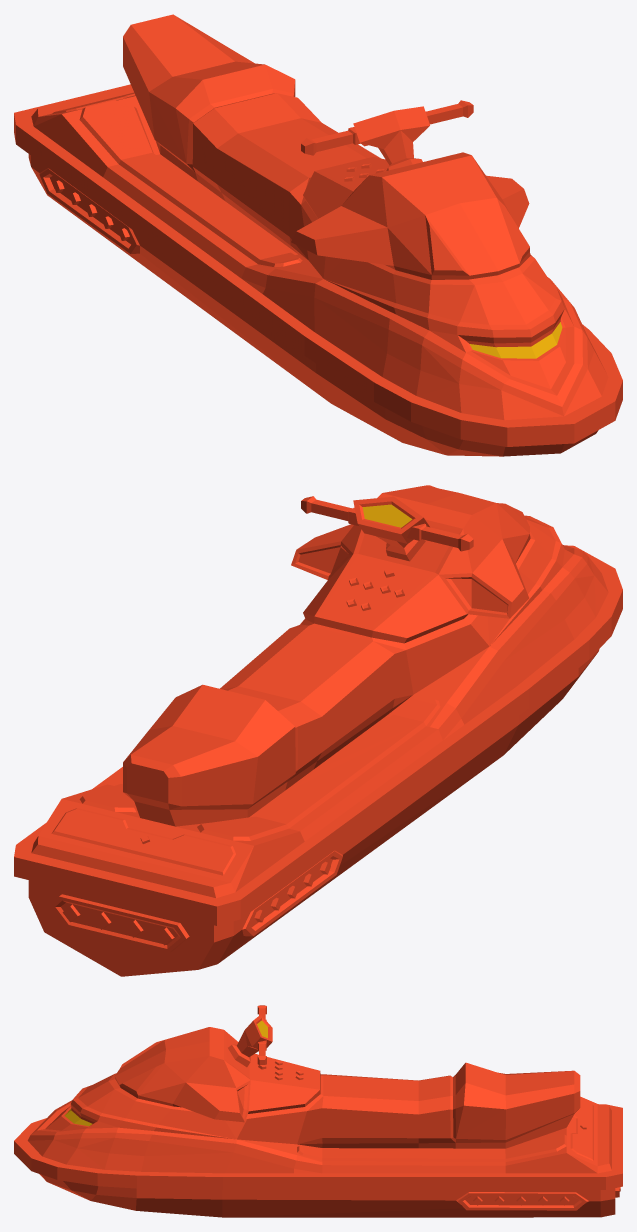
File: SM_JetSki.fbx
3 renders of one model, top to bottom at view 1: azimuth 30°, elevation 25°; view 2: azimuth 150°, elevation 25°; view 3: azimuth 270°, elevation 25°, orthographic. The views are drawn at different scales.
Parts seen in each view (by area): view 1: SM_JetSki_Base, SM_JetSki_SteeringWheel; view 2: SM_JetSki_Base, SM_JetSki_SteeringWheel; view 3: SM_JetSki_Base, SM_JetSki_SteeringWheel.
Part boxes in pixels (box(x1,y1,x2,y2)): SM_JetSki_Base: box(14, 14, 622, 456); SM_JetSki_SteeringWheel: box(301, 100, 473, 165); SM_JetSki_Base: box(14, 485, 622, 976); SM_JetSki_SteeringWheel: box(301, 496, 473, 551); SM_JetSki_Base: box(14, 1027, 622, 1217); SM_JetSki_SteeringWheel: box(237, 1005, 272, 1064).
Bounding box in the file's own units: 0.8812 × 1.06 × 3.11.
